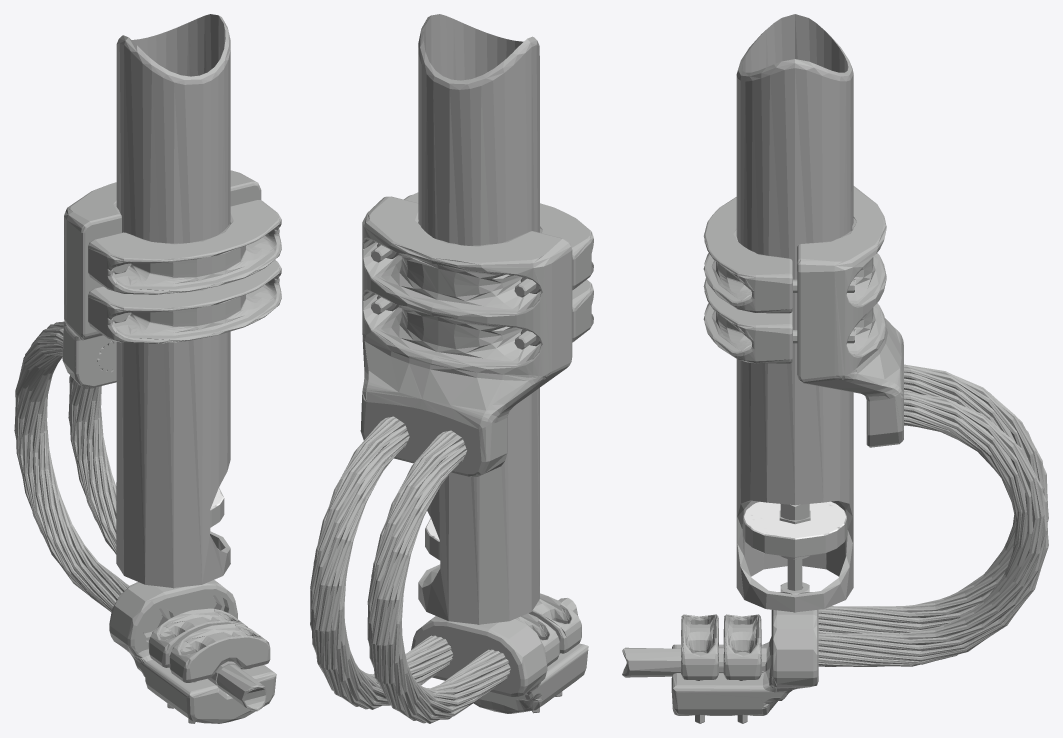
Rendered from flexible_90_tubo_pin8.gltf.
3 views of the same model, side by side, from view 1: azimuth 30°, elevation 25°; view 2: azimuth 150°, elevation 25°; view 3: azimuth 270°, elevation 25° (orthographic). The views are drawn at different scales.
Visible parts, largest first — view 1: Gt7Sj3Sa; view 2: Gt7Sj3Sa; view 3: Gt7Sj3Sa.
Part boxes in pixels (box(x1,y1,x2,y2)): Gt7Sj3Sa: box(14, 14, 281, 723); Gt7Sj3Sa: box(310, 14, 593, 723); Gt7Sj3Sa: box(622, 14, 1048, 723).
Bounding box in the file's own units: 0.5506 × 1.92 × 1.11.
1 material, 1 textured.
